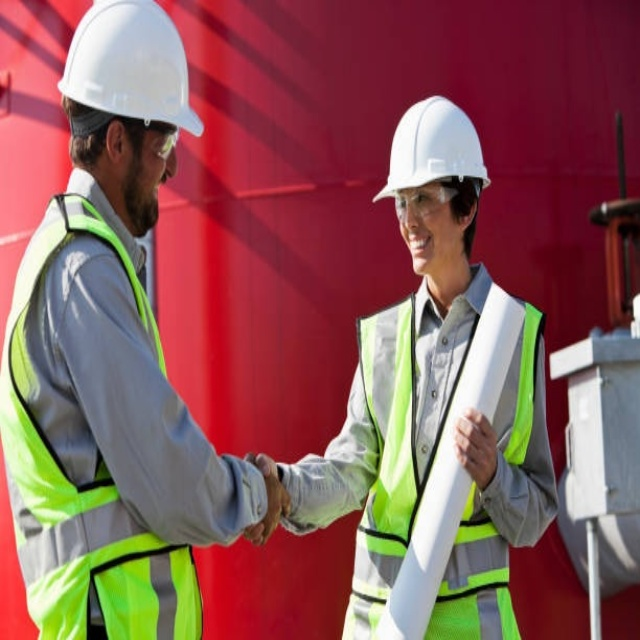Gafas: (395, 180, 460, 223), (141, 118, 179, 165)
Sin_guantes: (239, 452, 287, 546), (451, 407, 498, 489)
Sin_mascara: (405, 232, 436, 273)
